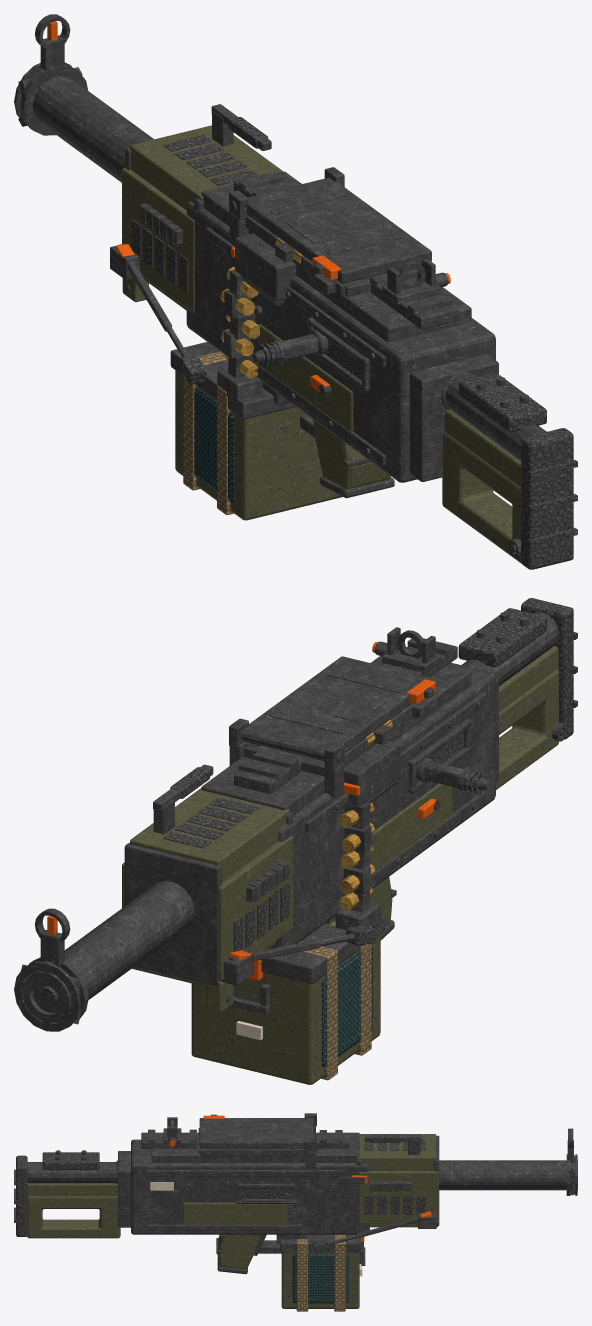
The model's file is bison.glb.
3 renders of one model, top to bottom at view 1: azimuth 30°, elevation 25°; view 2: azimuth 150°, elevation 25°; view 3: azimuth 270°, elevation 25°, orthographic. The views are drawn at different scales.
Parts seen in each view (by area): view 1: body | gunmetal, body | olive drab, body | rubber, extra | gunmetal, mag | olive drab, mag | gunmetal, mag | tan webbing, mag | petrol fabric, mag | brass, bolt | gunmetal; view 2: body | gunmetal, body | olive drab, mag | olive drab, body | rubber, extra | gunmetal, mag | gunmetal, mag | tan webbing, mag | petrol fabric, mag | brass, bolt | gunmetal, body | orange paint; view 3: body | gunmetal, body | olive drab, body | rubber, extra | gunmetal, mag | tan webbing, mag | petrol fabric, mag | olive drab, mag | gunmetal.
Part boxes in pixels (box(x1,y1,x2,y2)): body | gunmetal: box(14, 14, 546, 557); body | olive drab: box(122, 125, 521, 563); body | rubber: box(131, 117, 577, 569); extra | gunmetal: box(247, 178, 431, 283); mag | olive drab: box(175, 370, 342, 520); mag | gunmetal: box(170, 269, 295, 419); mag | tan webbing: box(183, 351, 233, 515); mag | petrol fabric: box(183, 382, 234, 502); mag | brass: box(220, 267, 259, 378); bolt | gunmetal: box(252, 330, 328, 365); body | gunmetal: box(14, 612, 566, 1031); body | olive drab: box(122, 646, 558, 1012); mag | olive drab: box(191, 935, 380, 1084); body | rubber: box(37, 598, 577, 1006); extra | gunmetal: box(243, 656, 433, 760); mag | gunmetal: box(231, 802, 385, 1013); mag | tan webbing: box(299, 920, 371, 1080); mag | petrol fabric: box(321, 944, 372, 1066); mag | brass: box(339, 803, 375, 910); bolt | gunmetal: box(416, 757, 490, 792); body | orange paint: box(47, 642, 436, 960); body | gunmetal: box(27, 1113, 577, 1274); body | olive drab: box(27, 1134, 438, 1269); body | rubber: box(14, 1134, 425, 1255); extra | gunmetal: box(199, 1114, 311, 1148); mag | tan webbing: box(296, 1234, 345, 1311); mag | petrol fabric: box(292, 1253, 348, 1303); mag | olive drab: box(281, 1252, 359, 1308); mag | gunmetal: box(276, 1234, 365, 1265).
Size of the model in its own units: 0.2594 by 0.374 by 1.09.
8 materials, 8 textured.
